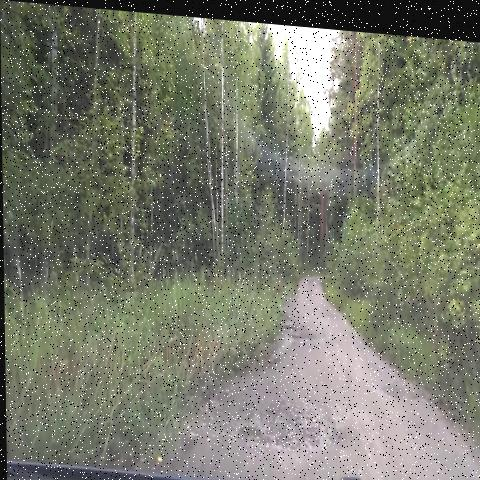pothole: (224, 373, 349, 456), (372, 369, 417, 406), (255, 336, 285, 373), (284, 322, 314, 342), (278, 308, 299, 332)
